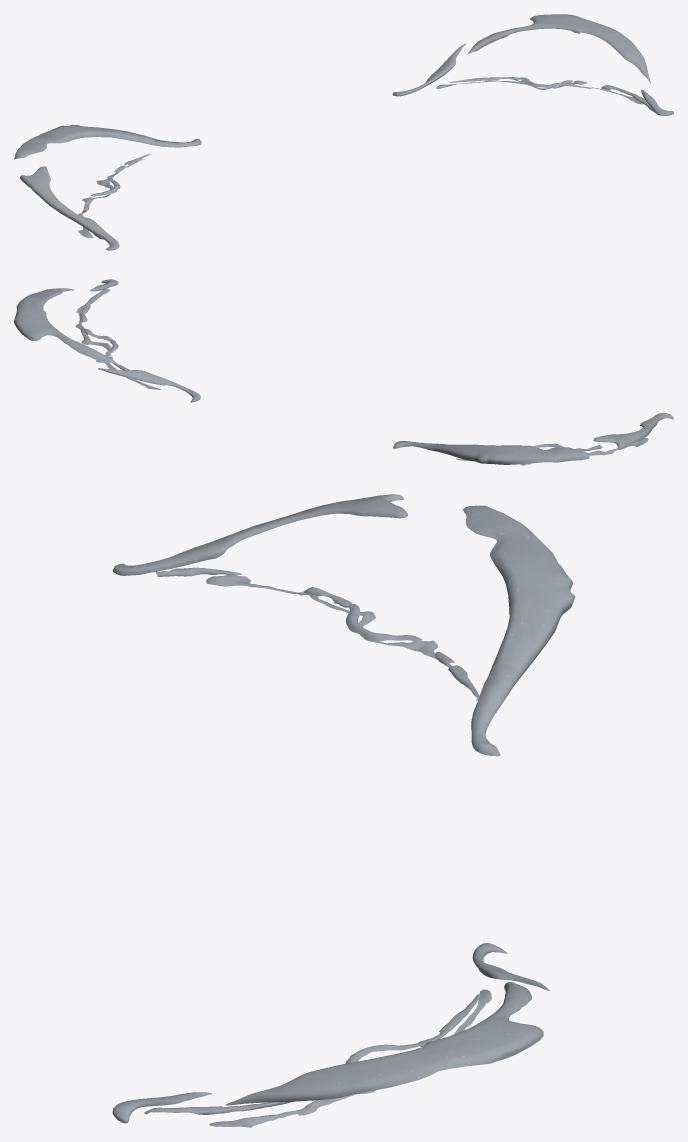
File: pref_Area_Winter_snowout_lv3.fbx
The picture shows the model from 3 angles, top to bottom: view 1: azimuth 30°, elevation 25°; view 2: azimuth 150°, elevation 25°; view 3: azimuth 270°, elevation 25°; orthographic projection. The views are drawn at different scales.
Visible parts, largest first — view 1: pref_sm_beach_winter_snowout05_lv3, pref_sm_beach_winter_snowout04_lv3, pref_sm_beach_winter_snowout04a_lv3, pref_sm_beach_winter_snowout05a_lv3; view 2: pref_sm_beach_winter_snowout05_lv3, pref_sm_beach_winter_snowout04_lv3, pref_sm_beach_winter_snowout04a_lv3, pref_sm_beach_winter_snowout05a_lv3; view 3: pref_sm_beach_winter_snowout05_lv3, pref_sm_beach_winter_snowout04_lv3, pref_sm_beach_winter_snowout05a_lv3, pref_sm_beach_winter_snowout04a_lv3.
Part boxes in pixels (x1=…): pref_sm_beach_winter_snowout05_lv3: x1=14, y1=124, x2=201, y2=250; pref_sm_beach_winter_snowout04_lv3: x1=392, y1=14, x2=673, y2=115; pref_sm_beach_winter_snowout04a_lv3: x1=436, y1=77, x2=654, y2=112; pref_sm_beach_winter_snowout05a_lv3: x1=78, y1=153, x2=150, y2=239; pref_sm_beach_winter_snowout05_lv3: x1=393, y1=412, x2=673, y2=464; pref_sm_beach_winter_snowout04_lv3: x1=14, y1=279, x2=200, y2=402; pref_sm_beach_winter_snowout04a_lv3: x1=76, y1=288, x2=160, y2=389; pref_sm_beach_winter_snowout05a_lv3: x1=456, y1=438, x2=648, y2=465; pref_sm_beach_winter_snowout05_lv3: x1=113, y1=494, x2=575, y2=756; pref_sm_beach_winter_snowout04_lv3: x1=112, y1=943, x2=549, y2=1123; pref_sm_beach_winter_snowout05a_lv3: x1=156, y1=567, x2=479, y2=700; pref_sm_beach_winter_snowout04a_lv3: x1=144, y1=989, x2=491, y2=1127.
Size of the model in its own units: 134 by 8.29 by 44.73.
